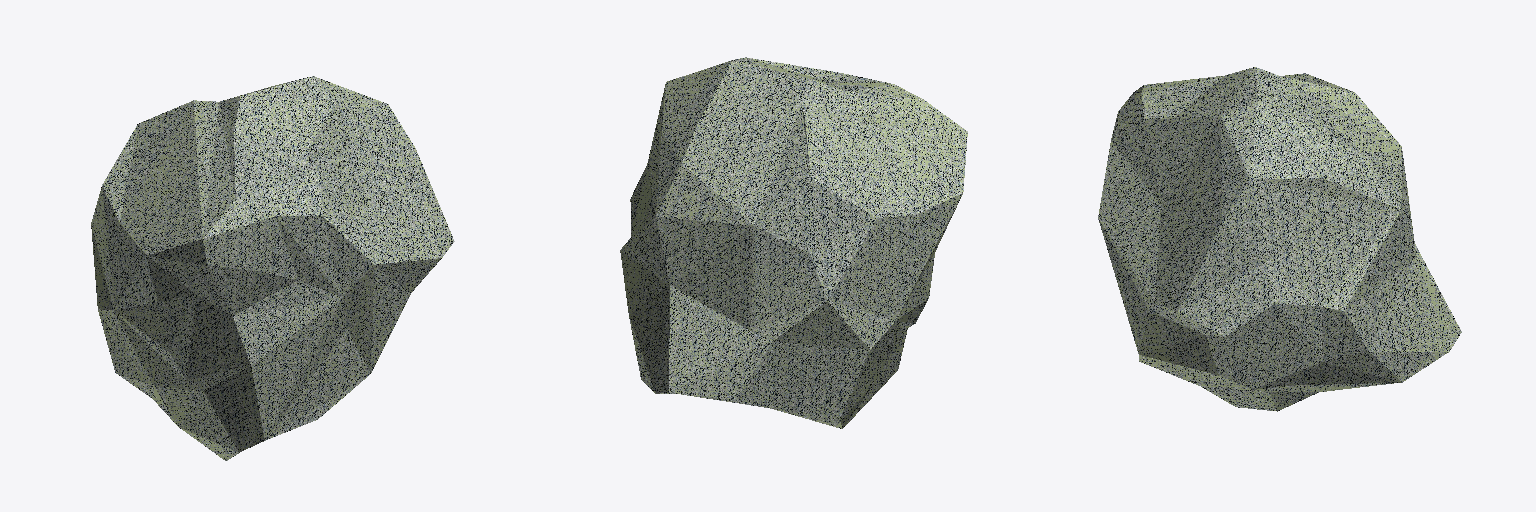
3 views of the same model, side by side, from view 1: azimuth 30°, elevation 25°; view 2: azimuth 150°, elevation 25°; view 3: azimuth 270°, elevation 25° (orthographic).
Visible parts, largest first — view 1: SketchUp_ID3; view 2: SketchUp_ID3; view 3: SketchUp_ID3.
Part boxes in pixels (x1,y1,x2,y2): SketchUp_ID3: (91,76,454,460); SketchUp_ID3: (620,57,967,428); SketchUp_ID3: (1098,67,1461,411).
Bounding box in the file's own units: 2.42 × 2.68 × 2.5.
Materials: 2 (1 with a texture image).